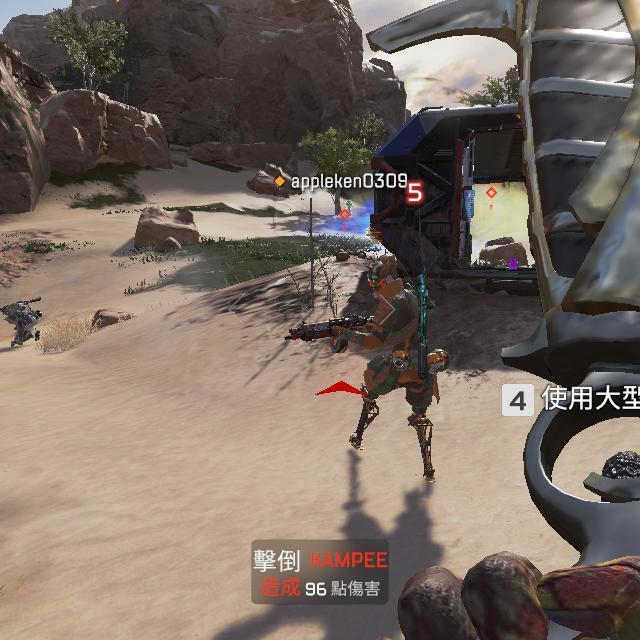avatar: (346, 249, 441, 486), (0, 295, 47, 352)
